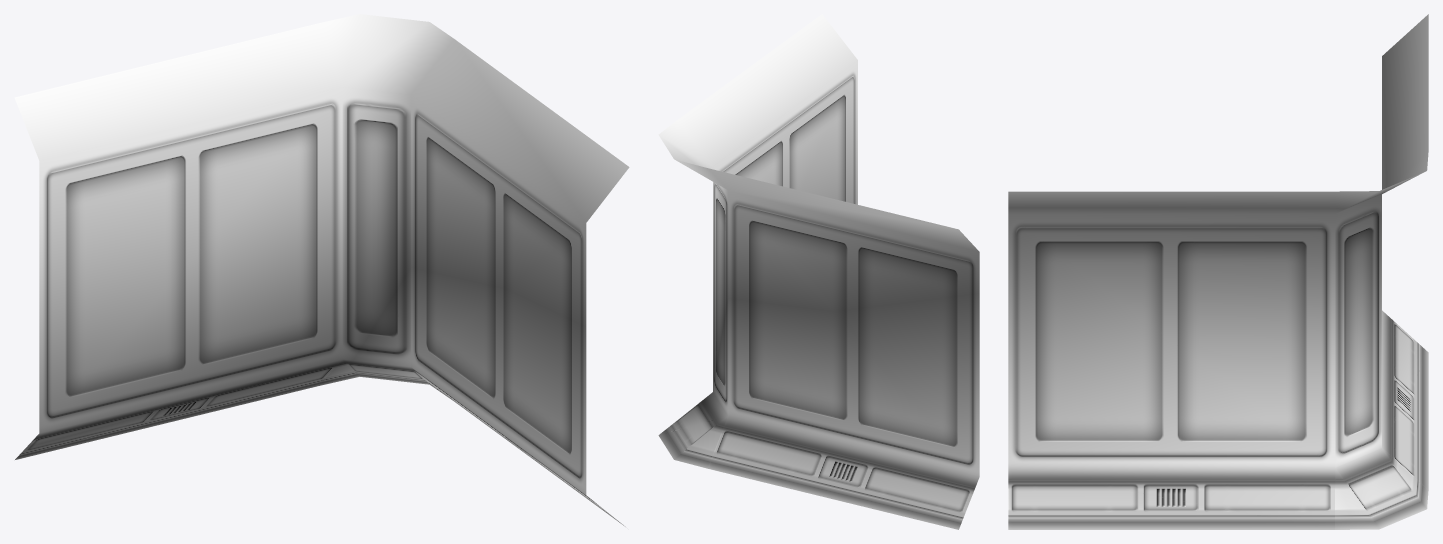
Rendered from Sect_Corner_1b_Generic.FBX.
3 renders of one model, left to right at view 1: azimuth 30°, elevation 25°; view 2: azimuth 150°, elevation 25°; view 3: azimuth 270°, elevation 25°, orthographic. The views are drawn at different scales.
Visible parts, largest first — view 1: Sect_Corner_1b_Generic; view 2: Sect_Corner_1b_Generic; view 3: Sect_Corner_1b_Generic.
Boxes of the visible parts, left/top/right/bottom form: Sect_Corner_1b_Generic: left=14, top=14, right=629, bottom=526; Sect_Corner_1b_Generic: left=658, top=14, right=979, bottom=529; Sect_Corner_1b_Generic: left=1008, top=14, right=1428, bottom=529.
Size of the model in its own units: 4.5 by 4 by 4.5.
